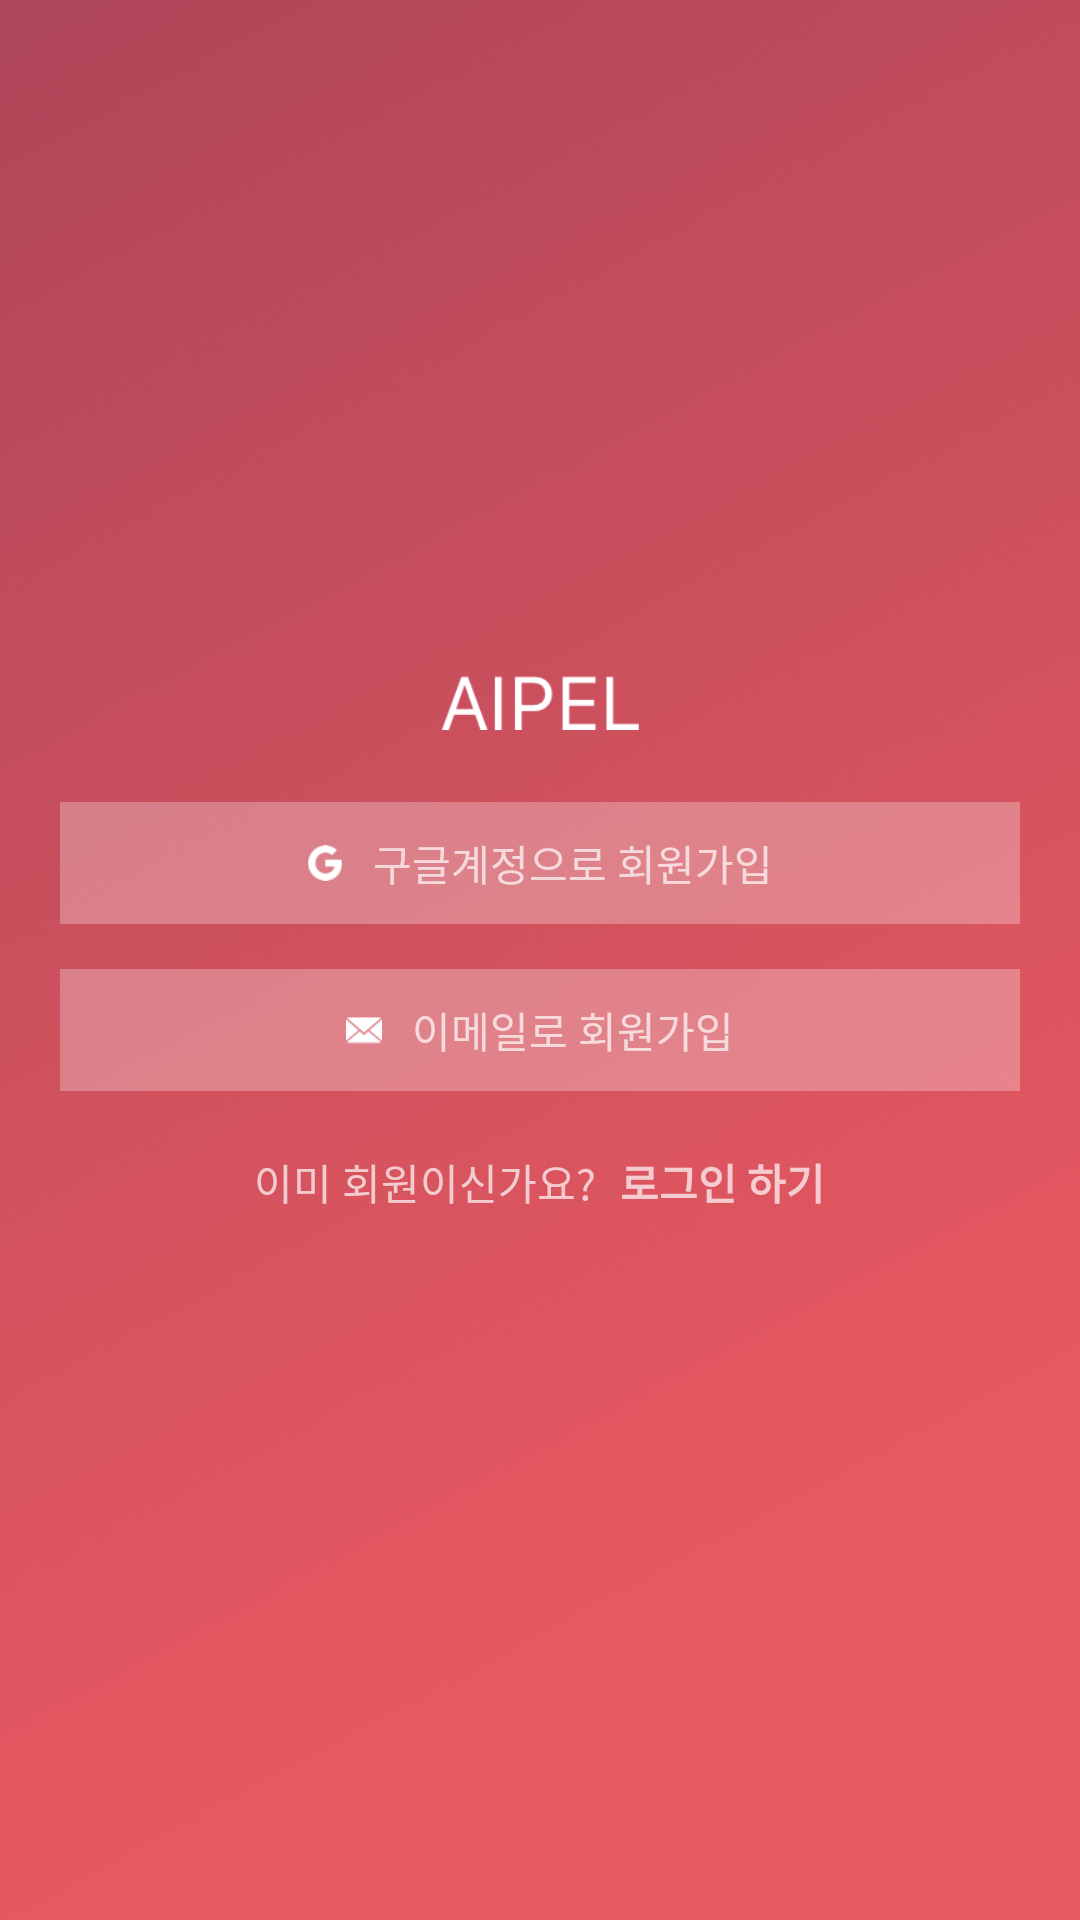

Locate icon controls on the screen. Image size 1080w x 1920h, boxes as (x1, y1, x2, y2).
close envelope: (346, 1017, 382, 1044)
